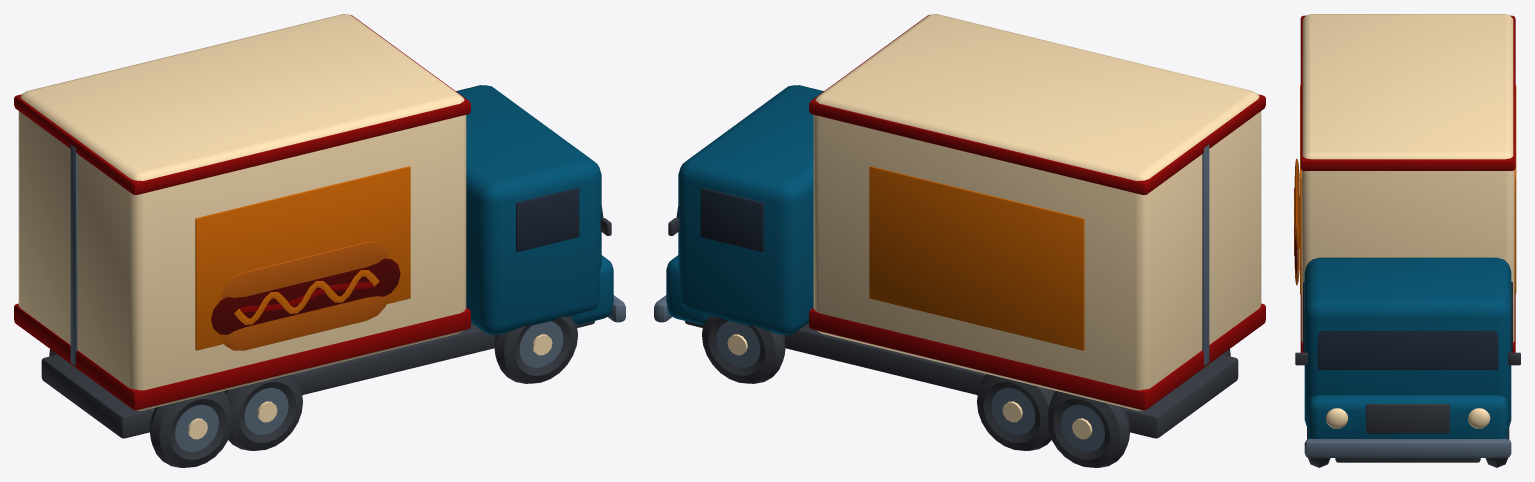
Rendered from DepotTruck.obj.
3 renders of one model, left to right at view 1: azimuth 30°, elevation 25°; view 2: azimuth 150°, elevation 25°; view 3: azimuth 270°, elevation 25°, orthographic. The views are drawn at different scales.
Parts seen in each view (by area): view 1: DepotTruck; view 2: DepotTruck; view 3: DepotTruck.
Part boxes in pixels (<box>): DepotTruck: <box>14,14,625,467</box>; DepotTruck: <box>654,14,1265,467</box>; DepotTruck: <box>1294,14,1520,467</box>.
Bounding box in the file's own units: 15.71 × 9.43 × 7.03.
